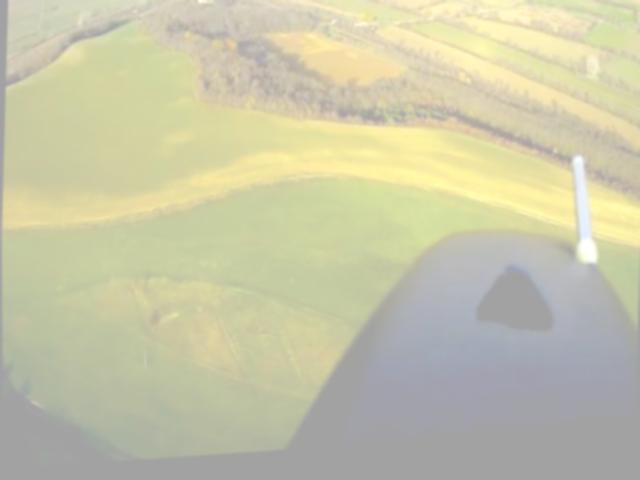iha: (344, 0, 378, 2)
